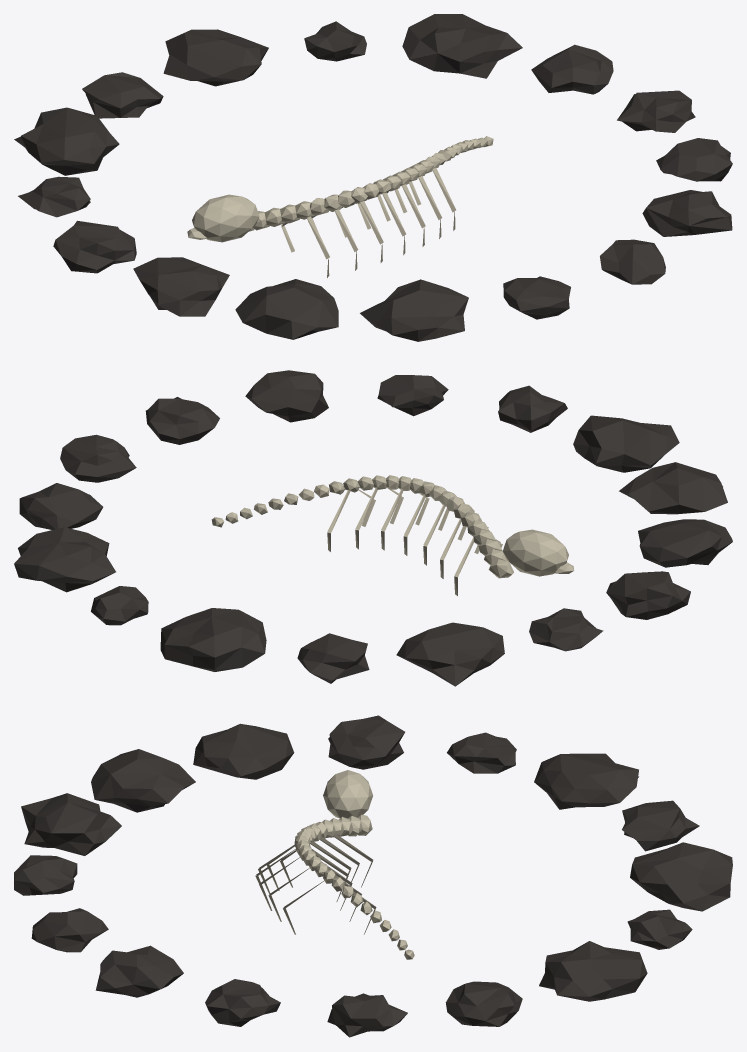
The model's file is cave_glasswyrm_cavern_props_lod1.glb.
3 views of the same model, one above another, from view 1: azimuth 30°, elevation 25°; view 2: azimuth 150°, elevation 25°; view 3: azimuth 270°, elevation 25° (orthographic).
Visible parts, largest first — view 1: geometry_0; view 2: geometry_0; view 3: geometry_0.
Part boxes in pixels (x1=…): geometry_0: x1=14, y1=14, x2=732, y2=341; geometry_0: x1=14, y1=370, x2=732, y2=686; geometry_0: x1=14, y1=715, x2=732, y2=1037.
Size of the model in its own units: 94.37 by 11.62 by 94.4.
